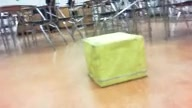cube: (83, 32, 146, 87)
